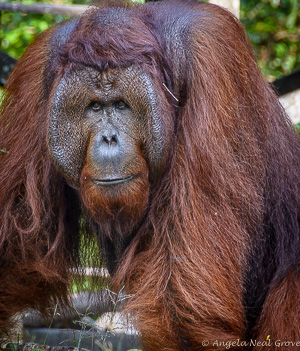Orangutan: (21, 9, 279, 308)
